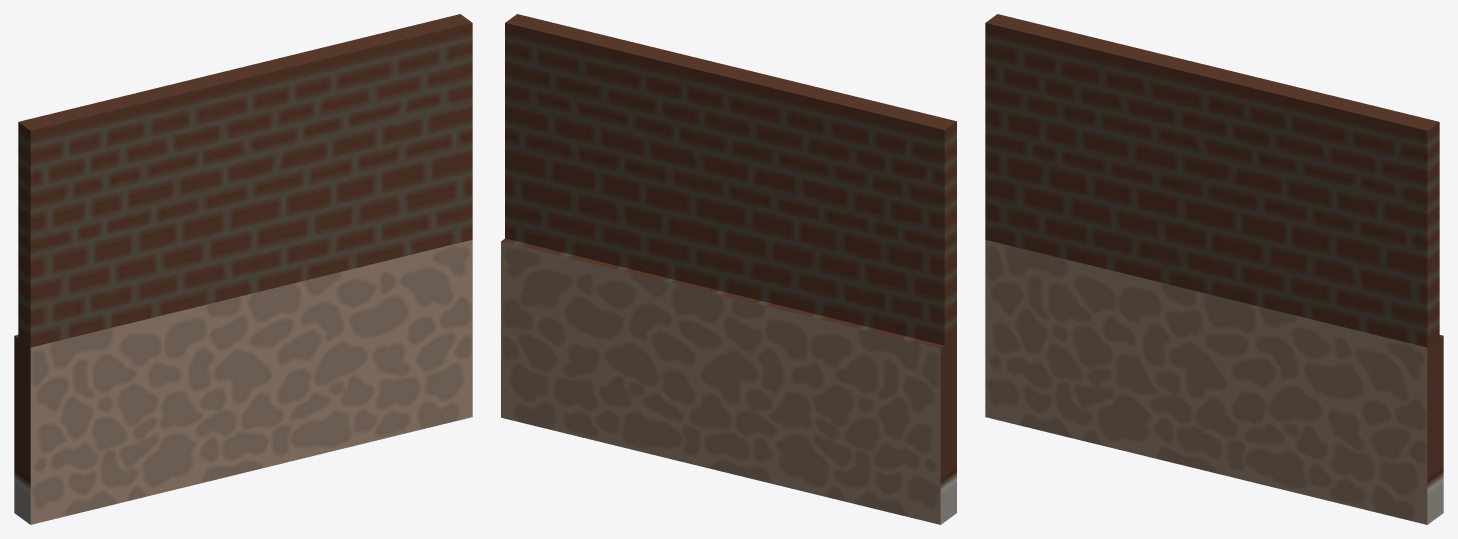
The model's file is BrickBrown_ModularLowWall.fbx.
3 renders of one model, left to right at view 1: azimuth 30°, elevation 25°; view 2: azimuth 150°, elevation 25°; view 3: azimuth 330°, elevation 25°, orthographic.
Parts seen in each view (by area): view 1: Cube.004; view 2: Cube.004; view 3: Cube.004.
Part boxes in pixels (x1,y1,x2,y2): Cube.004: [14, 14, 472, 524]; Cube.004: [501, 14, 956, 524]; Cube.004: [985, 14, 1443, 524].
Size of the model in its own units: 4.14 by 3.53 by 0.2635.
